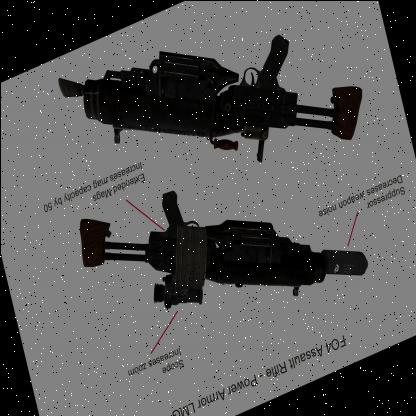rifle: (63, 0, 372, 224)
